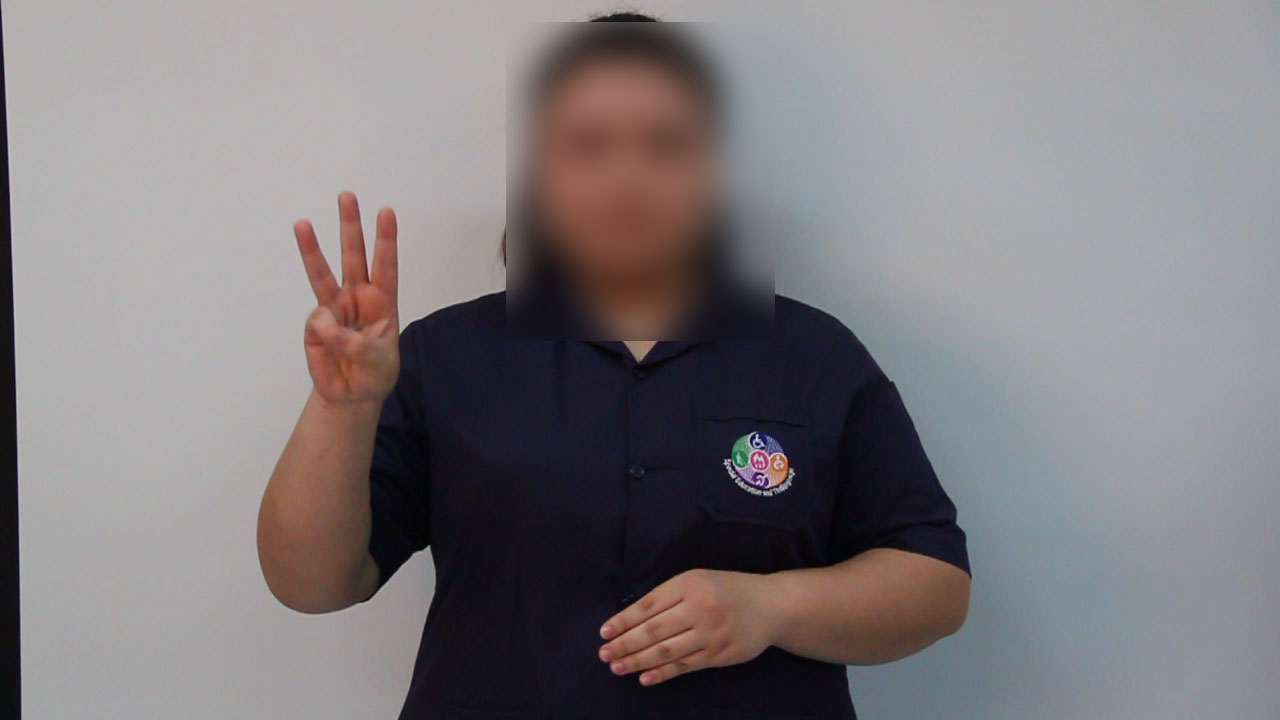wor: (285, 181, 409, 415)
